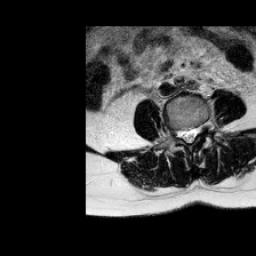CCS_normal: (186, 119, 191, 148)
LFS_normal: (198, 114, 205, 137)
LLS_normal: (191, 119, 198, 144)
RFS_normal: (173, 121, 179, 144)
RLS_normal: (179, 121, 186, 145)
